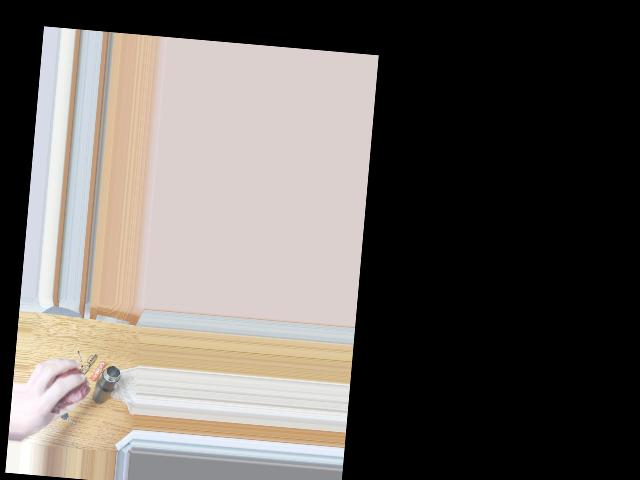onion: (50, 366, 86, 404)
